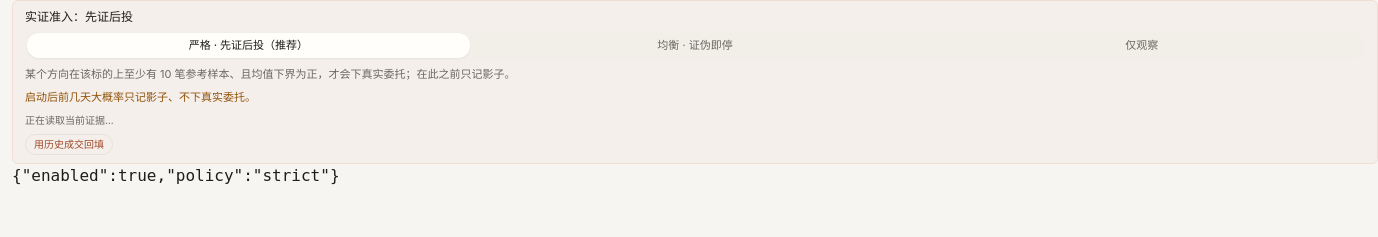
Test: EvidenceGateCard · 受控卡片 › 回填截断 ⇒ 「还有 N 笔没处理完」且按钮改为「继续回填」
Click the button with test id "ai-evidence-backfill": (69, 145) [25,134,113,155]
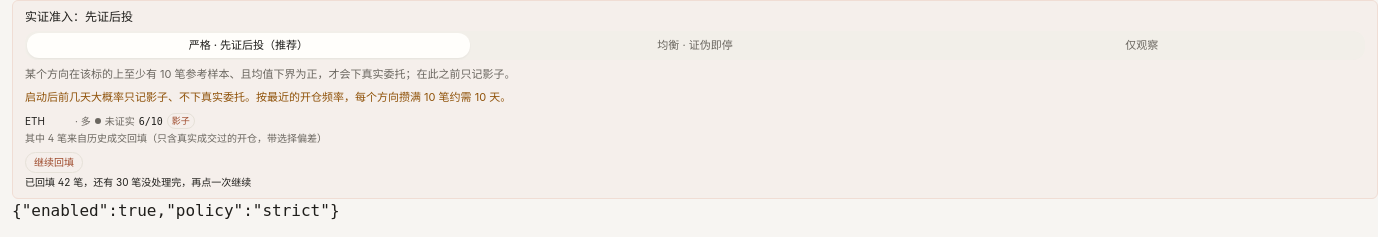
Now the text with test id "ai-evidence-backfill-result" reads "已回填 42 笔，还有 30 笔没处理完，再点一次继续", box [25,176,251,188]
Now the button with test id "ai-evidence-backfill" reads "继续回填", box [25,152,83,173]
